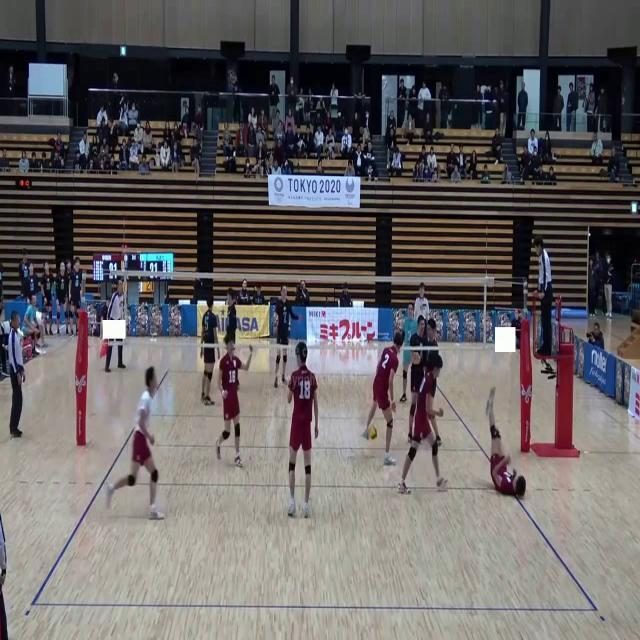volleyball: (369, 424, 378, 440)
